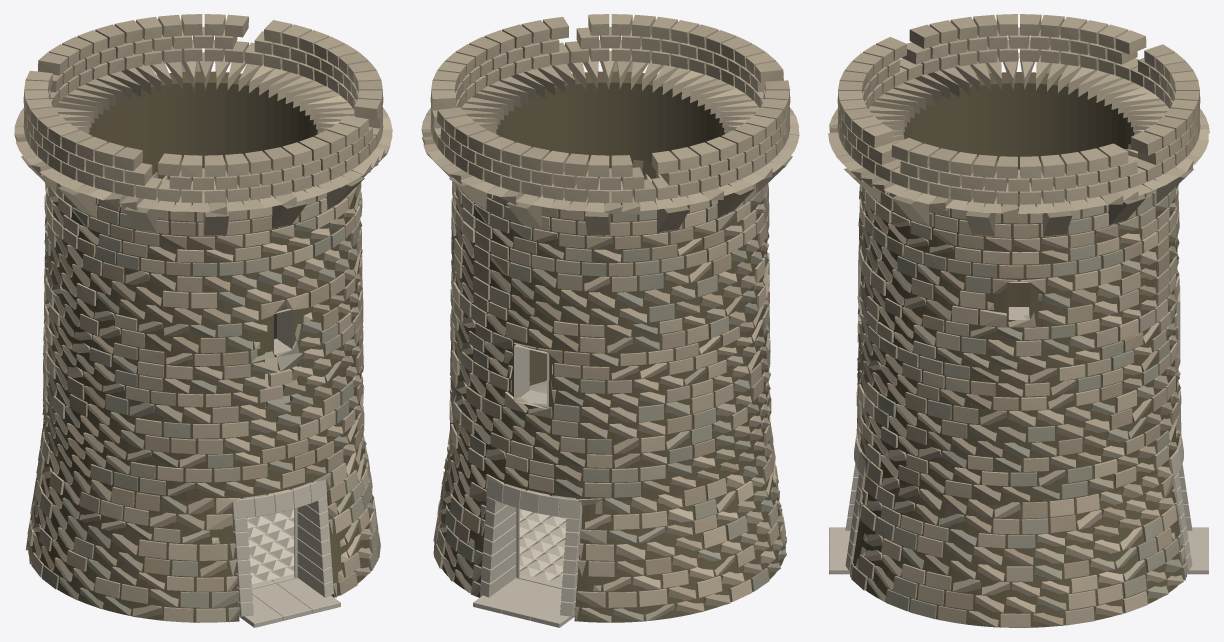
File: Tour_V6_LOD2.fbx
The picture shows the model from 3 angles, left to right: view 1: azimuth 30°, elevation 25°; view 2: azimuth 150°, elevation 25°; view 3: azimuth 270°, elevation 25°; orthographic projection.
Visible parts, largest first — view 1: V6_Distance2_V6_Fut_Granit_Exterieur, V6_Distance2_V6_Couronnement_Consoles, V6_Distance2_V6_Chaux_Coeur_Murs, V6_Distance2_V6_Embrasures_Linteaux_Seuils, V6_Distance2_V6_Dalles_Patine, V6_Distance2_V6_Embrasures_Fenetres_Traversantes; view 2: V6_Distance2_V6_Fut_Granit_Exterieur, V6_Distance2_V6_Couronnement_Consoles, V6_Distance2_V6_Chaux_Coeur_Murs, V6_Distance2_V6_Embrasures_Linteaux_Seuils, V6_Distance2_V6_Dalles_Patine, V6_Distance2_V6_Embrasures_Fenetres_Traversantes; view 3: V6_Distance2_V6_Fut_Granit_Exterieur, V6_Distance2_V6_Chaux_Coeur_Murs, V6_Distance2_V6_Couronnement_Consoles, V6_Distance2_V6_Embrasures_Linteaux_Seuils, V6_Distance2_V6_Embrasures_Fenetres_Traversantes.
Part boxes in pixels (x1,y1,x2,y2): V6_Distance2_V6_Fut_Granit_Exterieur: (26,182,380,622); V6_Distance2_V6_Couronnement_Consoles: (14,14,392,236); V6_Distance2_V6_Chaux_Coeur_Murs: (28,71,372,622); V6_Distance2_V6_Embrasures_Linteaux_Seuils: (231,479,340,627); V6_Distance2_V6_Dalles_Patine: (247,509,294,584); V6_Distance2_V6_Embrasures_Fenetres_Traversantes: (272,309,292,354); V6_Distance2_V6_Fut_Granit_Exterieur: (433,160,786,622); V6_Distance2_V6_Couronnement_Consoles: (421,14,799,236); V6_Distance2_V6_Chaux_Coeur_Murs: (441,71,785,622); V6_Distance2_V6_Embrasures_Linteaux_Seuils: (473,479,582,627); V6_Distance2_V6_Dalles_Patine: (519,509,566,584); V6_Distance2_V6_Embrasures_Fenetres_Traversantes: (514,344,549,409); V6_Distance2_V6_Fut_Granit_Exterieur: (850,184,1187,627); V6_Distance2_V6_Chaux_Coeur_Murs: (853,72,1186,627); V6_Distance2_V6_Couronnement_Consoles: (828,14,1209,237); V6_Distance2_V6_Embrasures_Linteaux_Seuils: (829,436,1208,574); V6_Distance2_V6_Embrasures_Fenetres_Traversantes: (858,251,1180,357).
Size of the model in its own units: 904 by 1214 by 904.
